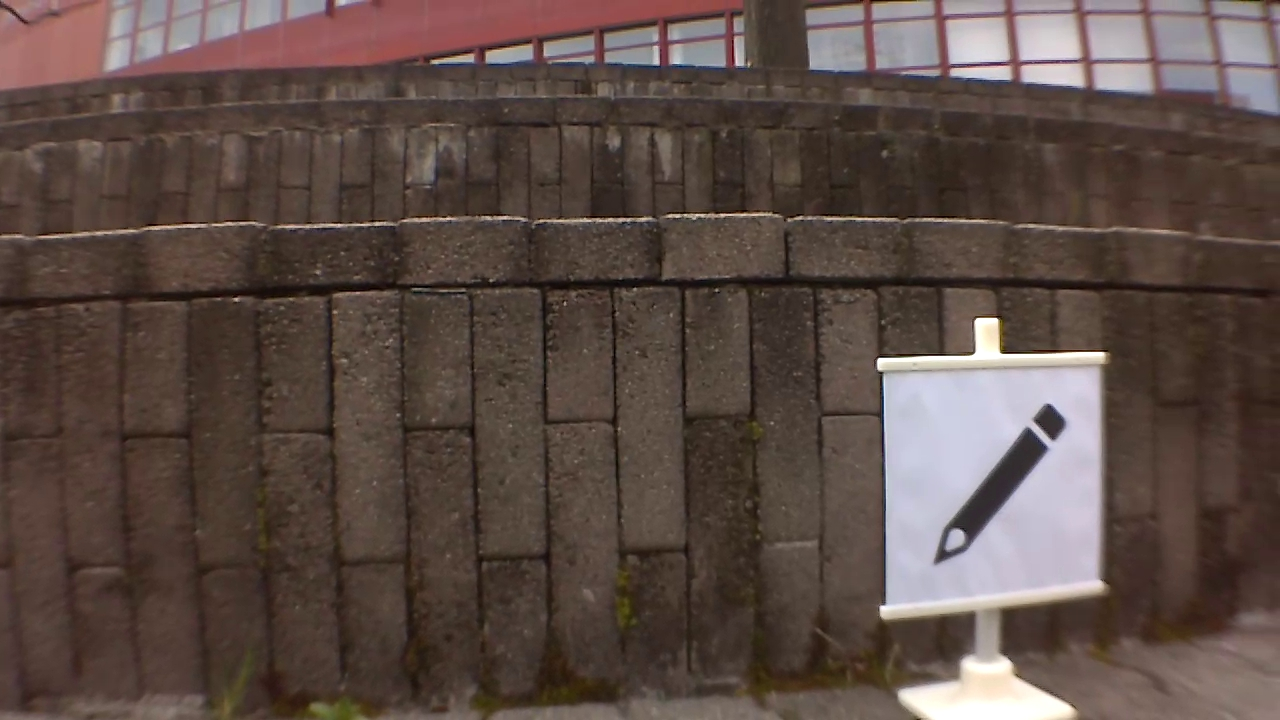pencil: (935, 401, 1077, 564)
